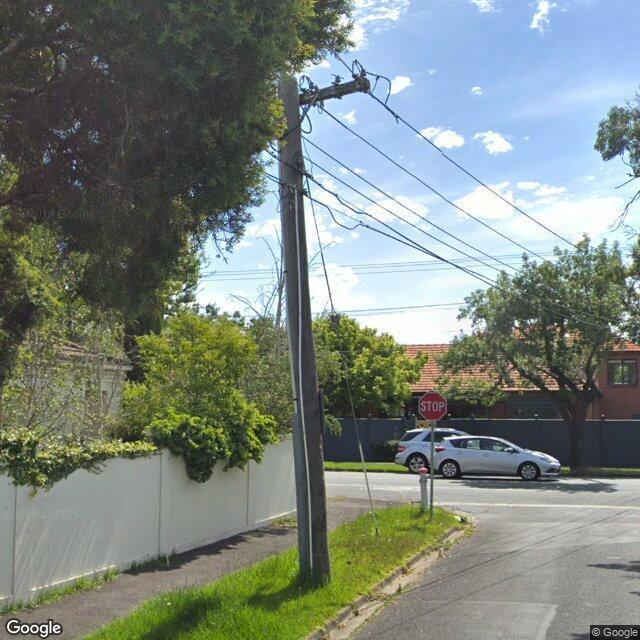crossarm: (298, 78, 370, 105)
timber-pole: (276, 76, 332, 586)
